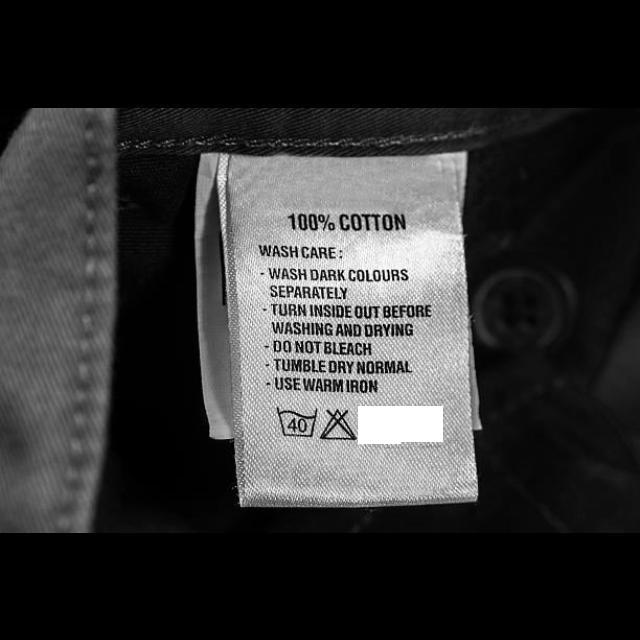40C: (275, 404, 321, 438)
DN_bleach: (318, 406, 358, 444)
